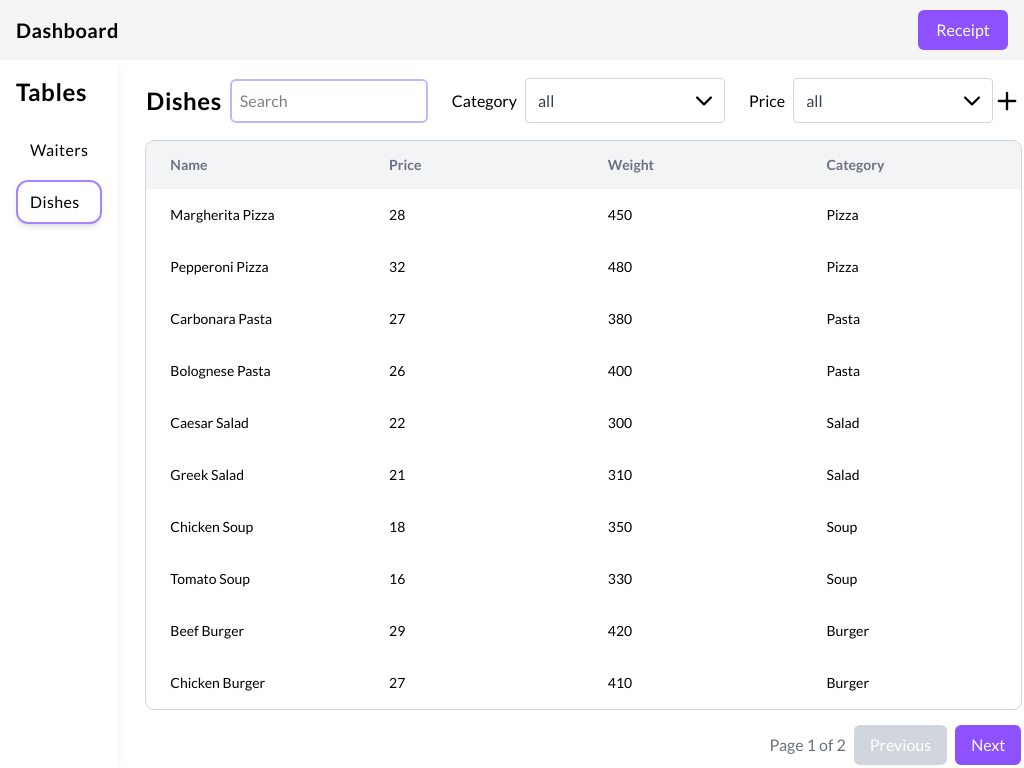
Dishes CRUD › Update Dish
Click the row with test id "table-row-0" at (223, 215), box x1=146 y1=189 x2=1021 y2=241
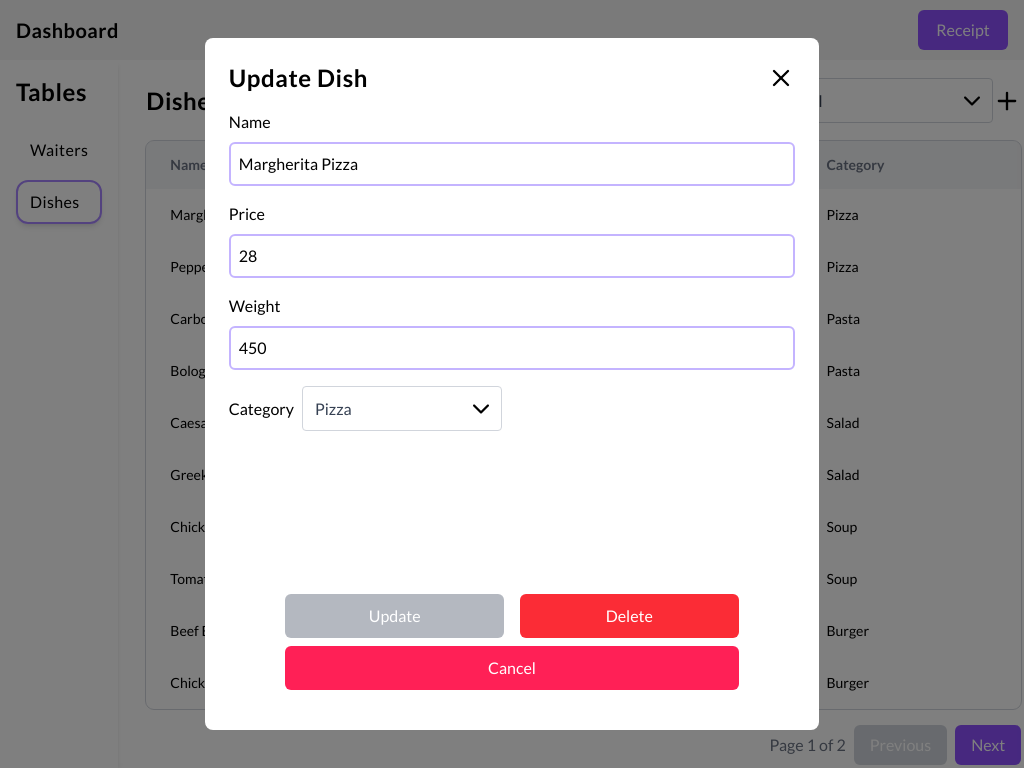
Replace the text in the field with test id "dish-name" with "Updated test dish" at (512, 164), box x1=229 y1=142 x2=795 y2=186
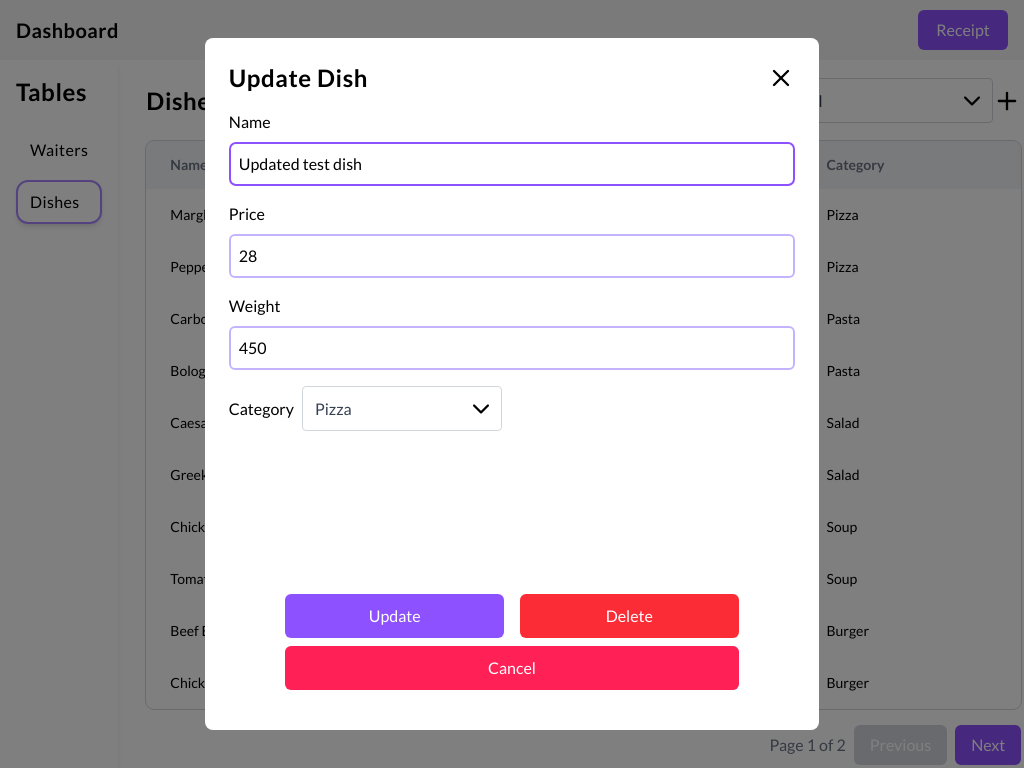
Click the button with test id "create-dish-btn" at (395, 616), box x1=285 y1=594 x2=504 y2=638
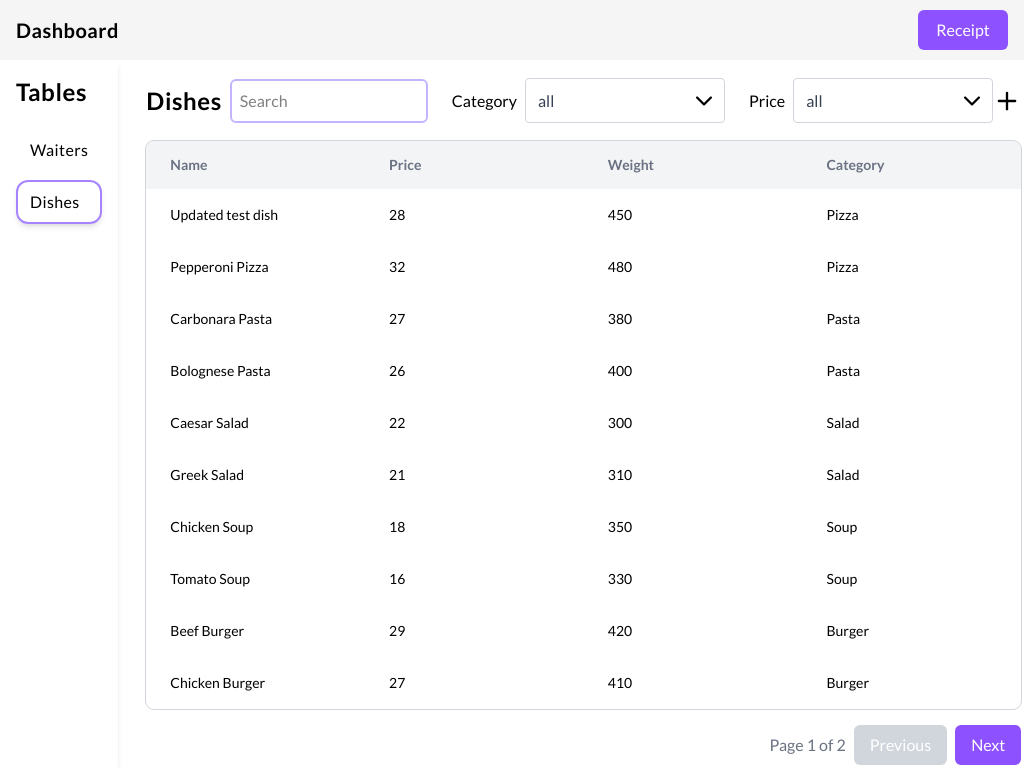
Expected: the text "Updated test dish" is shown, x1=146 y1=189 x2=365 y2=241
